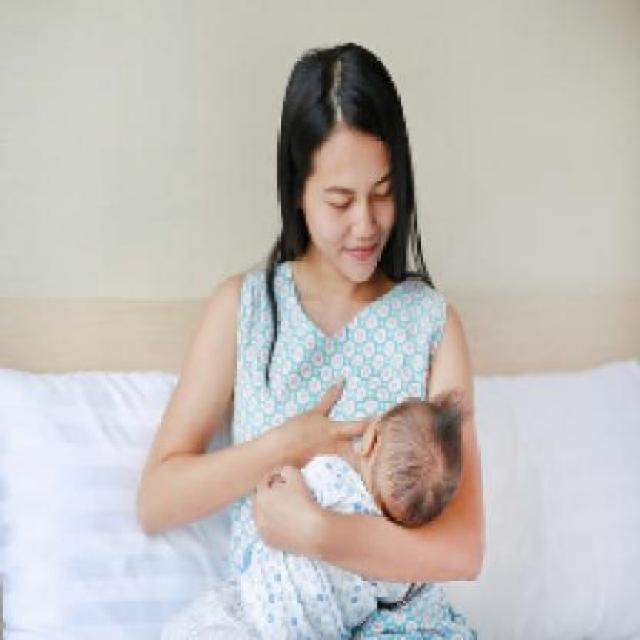child: (159, 388, 472, 638)
